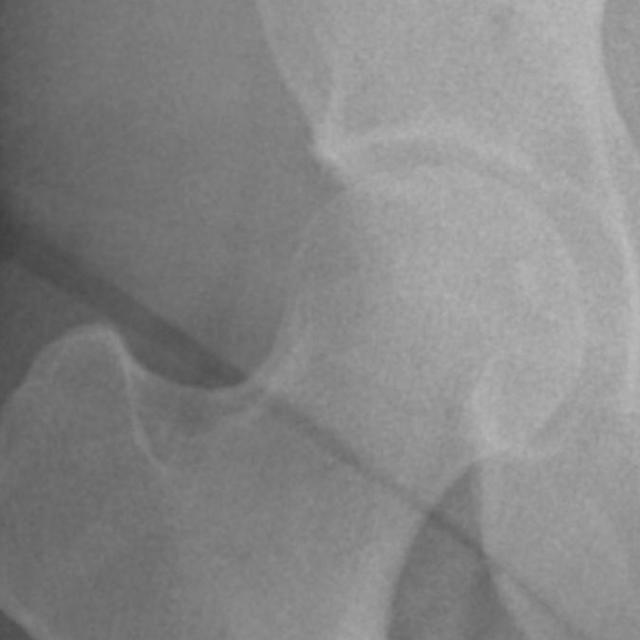Fitted_femural_head: (307, 164, 432, 307)
